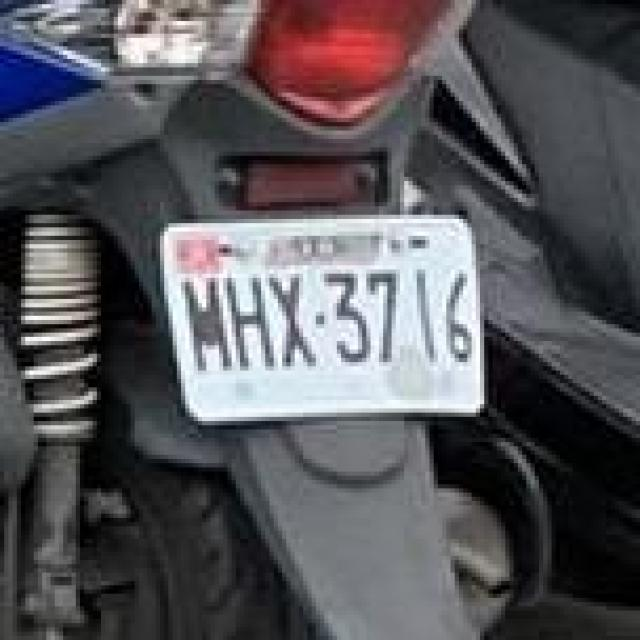W: (143, 189, 493, 438)
